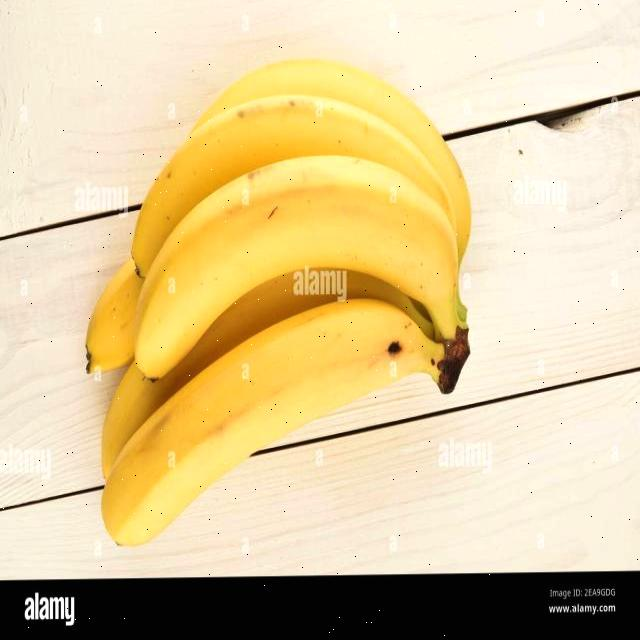banana: (82, 48, 474, 557)
